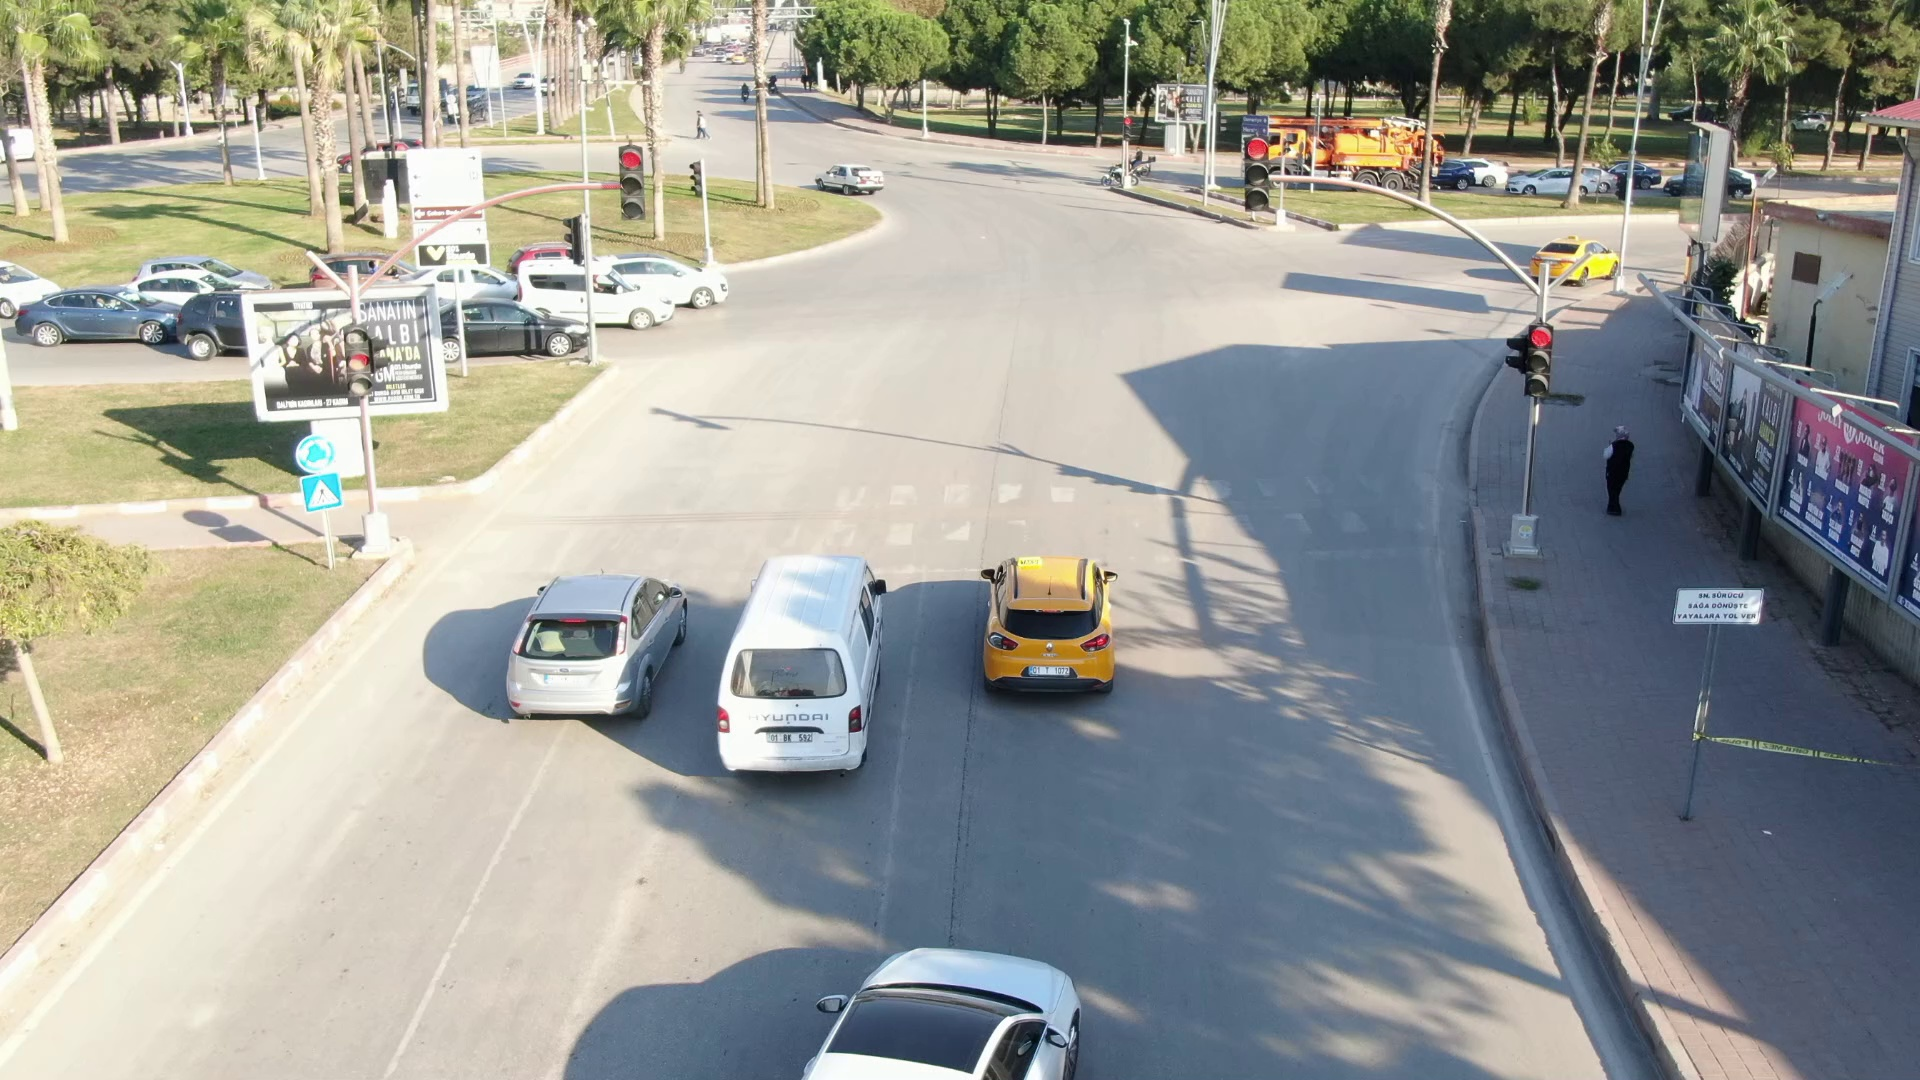car: (704, 545, 900, 780), (490, 549, 698, 733), (966, 545, 1129, 702), (517, 249, 670, 329), (437, 292, 590, 357), (608, 253, 729, 308), (1527, 231, 1625, 294), (814, 161, 888, 196)
person: (1602, 421, 1637, 529)
